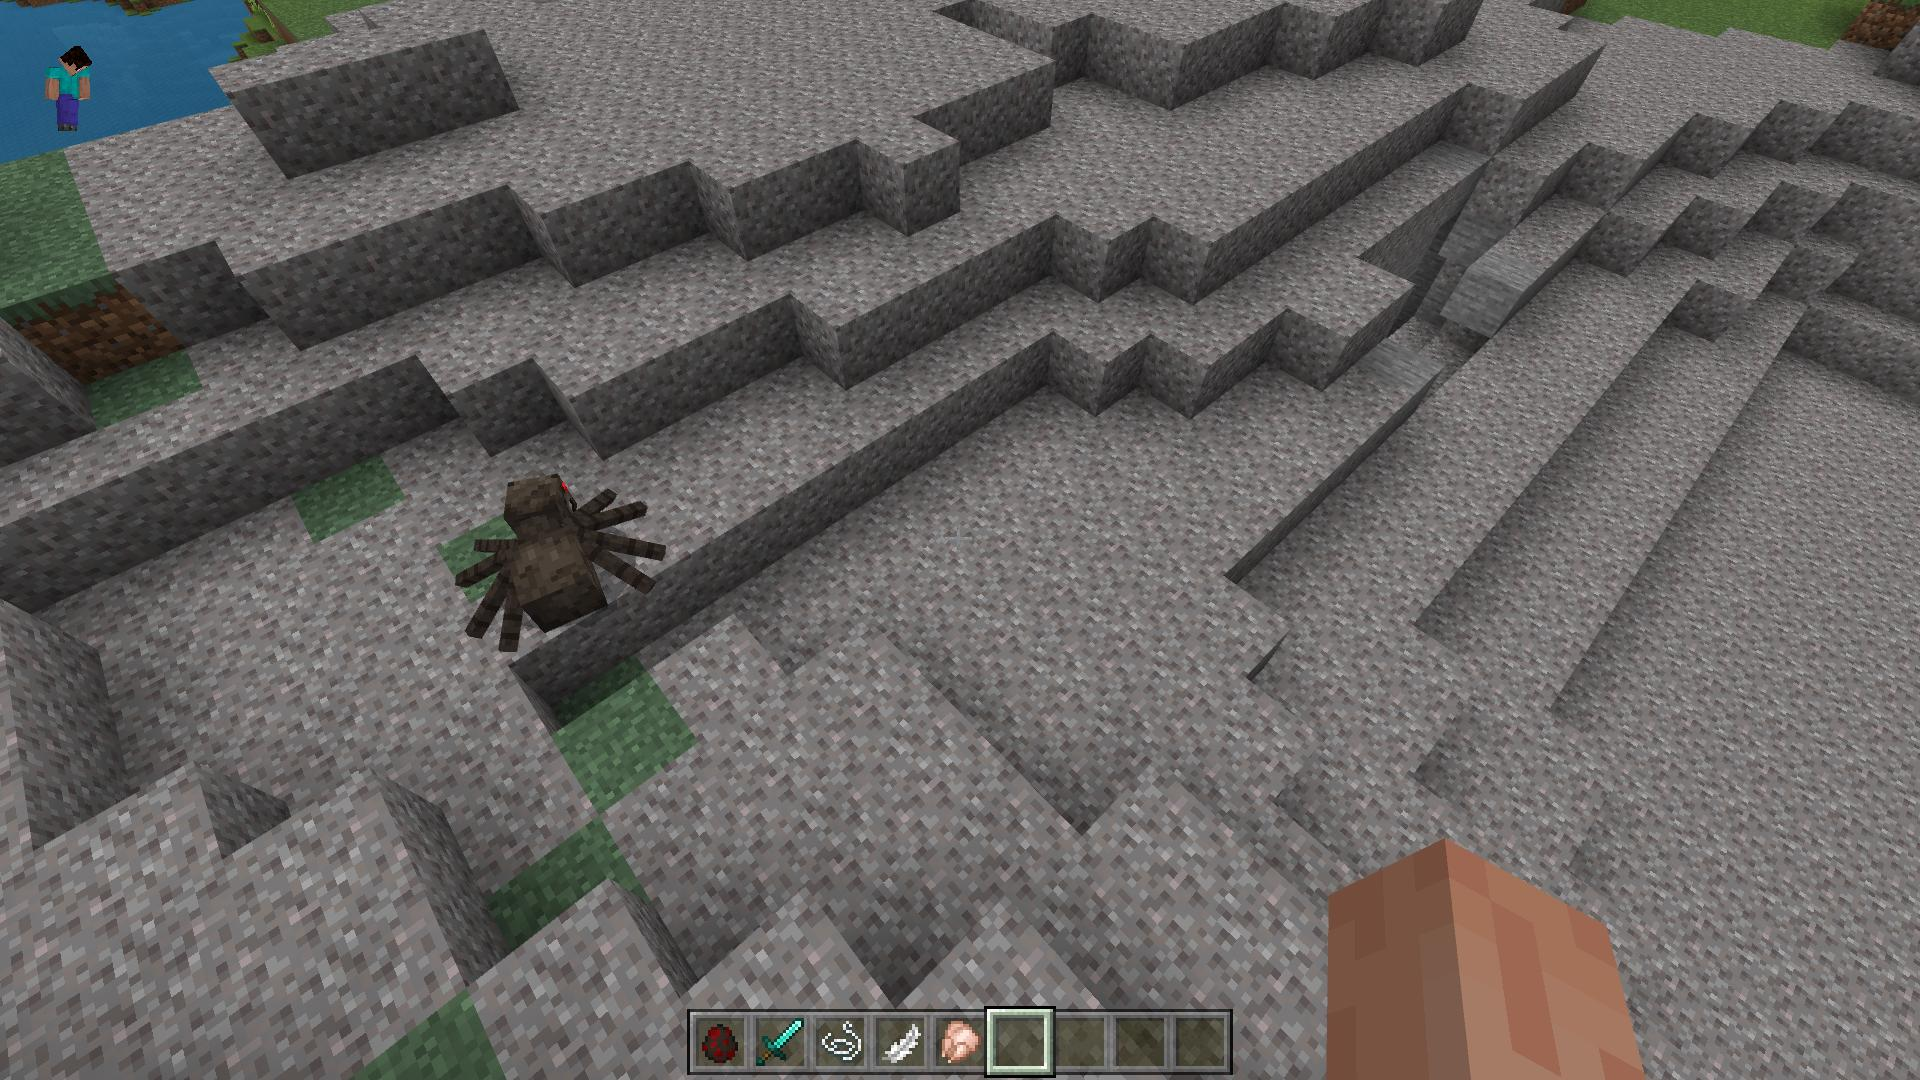spider: (456, 469, 670, 651)
